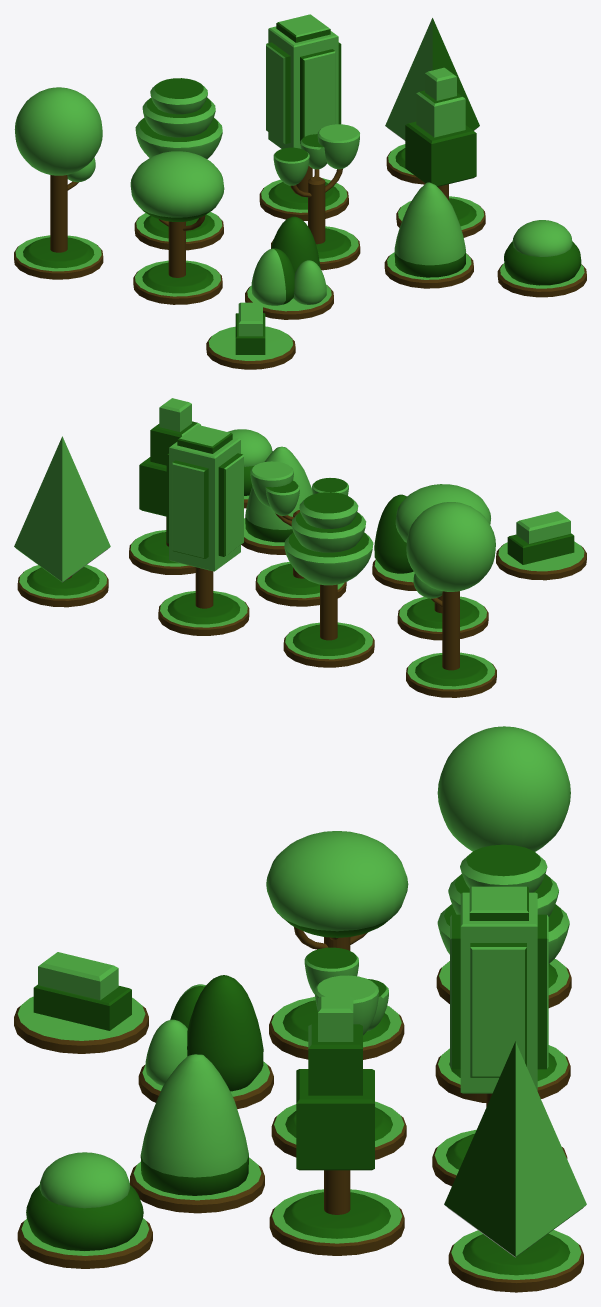
The model's file is TreesAndBushes.fbx.
3 renders of one model, top to bottom at view 1: azimuth 30°, elevation 25°; view 2: azimuth 150°, elevation 25°; view 3: azimuth 270°, elevation 25°, orthographic. The views are drawn at different scales.
Parts seen in each view (by area): view 1: tree_sq, tree_round_1, pCube4, tree_half_round_2, pSphere10, pSphere18, pSphere22, pSphere21, pPlatonic1, base17, base12, base9 (+15 smaller); view 2: tree_sq, pPlatonic1, tree_round_1, tree_half_round_2, pCube4, base14, base16, base17, base8, pSphere22, base12, pSphere18 (+13 smaller); view 3: tree_sq, pPlatonic1, tree_round_1, pSphere10, pCube4, pSphere18, pSphere21, base13, base8, pSphere16, tree_half_round_2, base9 (+14 smaller).
Part boxes in pixels (left/top/right/bottom): tree_sq: left=266, top=14, right=341, bottom=148; tree_round_1: left=14, top=87, right=102, bottom=182; pCube4: left=405, top=67, right=476, bottom=186; tree_half_round_2: left=135, top=78, right=222, bottom=159; pSphere10: left=130, top=151, right=224, bottom=221; pSphere18: left=394, top=182, right=465, bottom=277; pSphere22: left=273, top=124, right=359, bottom=244; pSphere21: left=504, top=220, right=581, bottom=285; pPlatonic1: left=385, top=18, right=479, bottom=140; base17: left=14, top=235, right=103, bottom=279; base12: left=133, top=260, right=222, bottom=304; base9: left=206, top=326, right=295, bottom=369; tree_sq: left=166, top=425, right=243, bottom=571; pPlatonic1: left=14, top=436, right=110, bottom=582; tree_round_1: left=406, top=502, right=495, bottom=598; tree_half_round_2: left=284, top=492, right=373, bottom=585; pCube4: left=139, top=398, right=200, bottom=516; base14: left=283, top=622, right=374, bottom=667; base16: left=158, top=591, right=249, bottom=635; base17: left=406, top=652, right=496, bottom=697; base8: left=17, top=564, right=108, bottom=607; pSphere22: left=250, top=461, right=348, bottom=578; base12: left=397, top=596, right=488, bottom=640; pSphere18: left=245, top=446, right=312, bottom=542; tree_sq: left=450, top=886, right=548, bottom=1093; pPlatonic1: left=444, top=1041, right=586, bottom=1257; tree_round_1: left=437, top=726, right=570, bottom=851; pSphere10: left=266, top=831, right=408, bottom=937; pCube4: left=296, top=996, right=374, bottom=1170; pSphere18: left=140, top=1054, right=248, bottom=1195; pSphere21: left=26, top=1152, right=143, bottom=1250; base13: left=269, top=1189, right=404, bottom=1255; base8: left=448, top=1230, right=583, bottom=1292; pSphere16: left=187, top=975, right=263, bottom=1091; tree_half_round_2: left=437, top=844, right=569, bottom=963; base9: left=14, top=996, right=148, bottom=1053.
Size of the model in its own units: 17.97 by 6.79 by 12.76.
